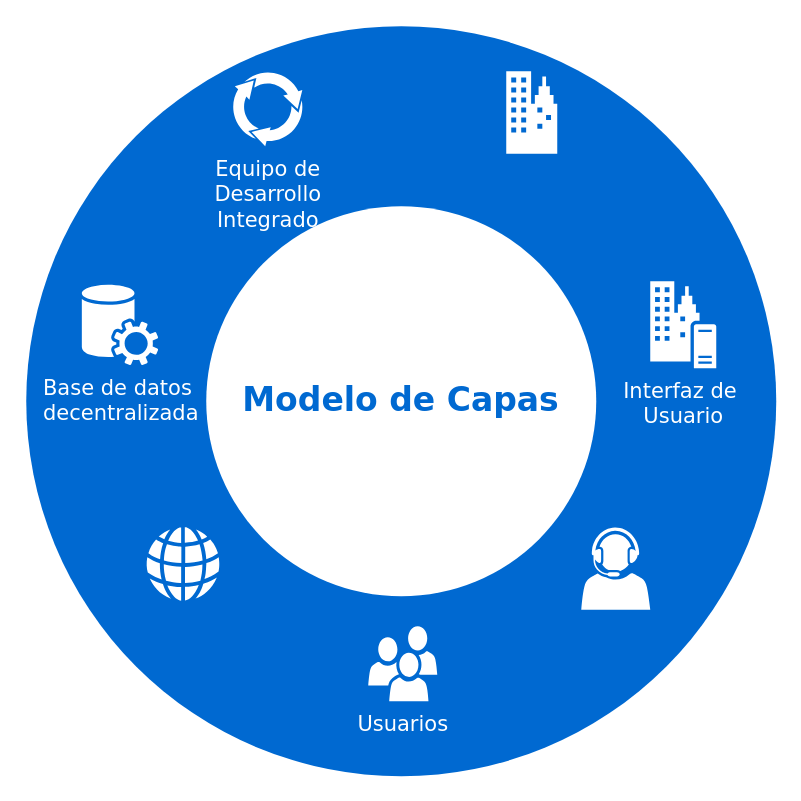
Image size: 801x801. Some labels were removed from this diagram. Each missing label, with the centre of its shape:
Accesibilidad Global a Datos: the point at 182,563
Lógica del Negocio: the point at 531,111
Mesa de Ayuda: the point at 615,567
